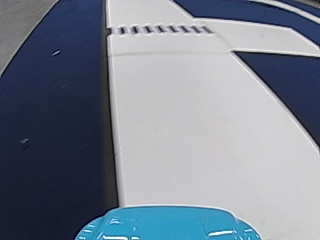CrossWalk: (112, 22, 212, 37)
